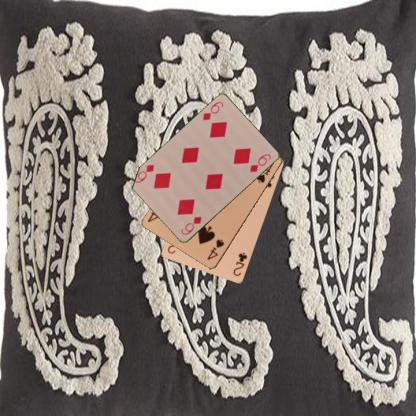2c: (230, 250, 249, 278)
4s: (204, 237, 226, 261)
6d: (200, 99, 224, 122), (178, 214, 203, 236)
